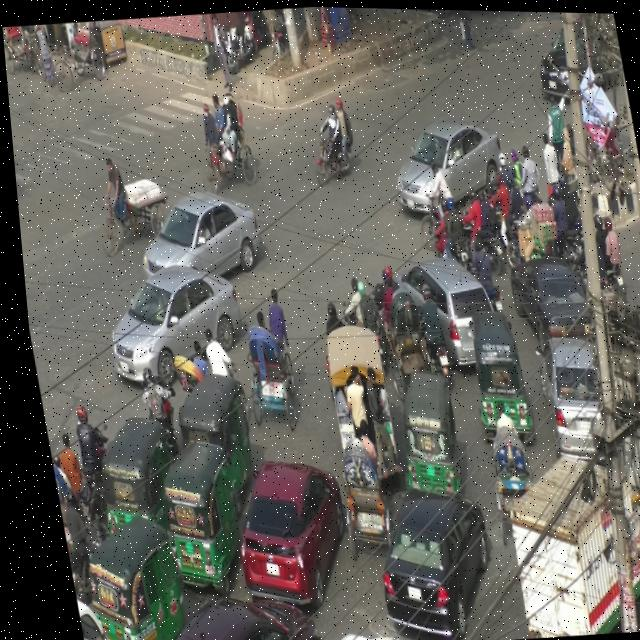cng: (69, 420, 181, 542), (59, 533, 183, 640), (378, 357, 468, 500), (145, 451, 240, 584), (167, 362, 251, 492), (460, 312, 529, 431)
rikshaw: (227, 273, 294, 425), (311, 423, 385, 553), (469, 407, 536, 549), (184, 79, 257, 191), (366, 268, 433, 390)
